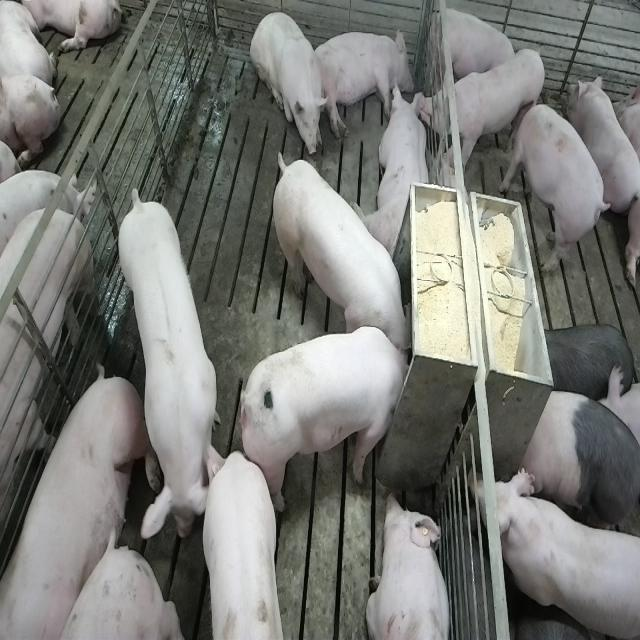Feeding: (244, 326, 418, 511), (268, 143, 411, 358)
Lateral_lying: (4, 365, 158, 640), (310, 25, 416, 138)
Sitting: (250, 9, 329, 160)
Standing: (0, 201, 97, 640), (115, 191, 222, 551), (482, 464, 638, 640), (520, 366, 638, 545), (500, 102, 610, 272), (189, 453, 288, 640), (418, 48, 547, 175)
Sternal_lying: (360, 83, 432, 264), (368, 490, 454, 640), (572, 73, 638, 221), (429, 5, 517, 91)
